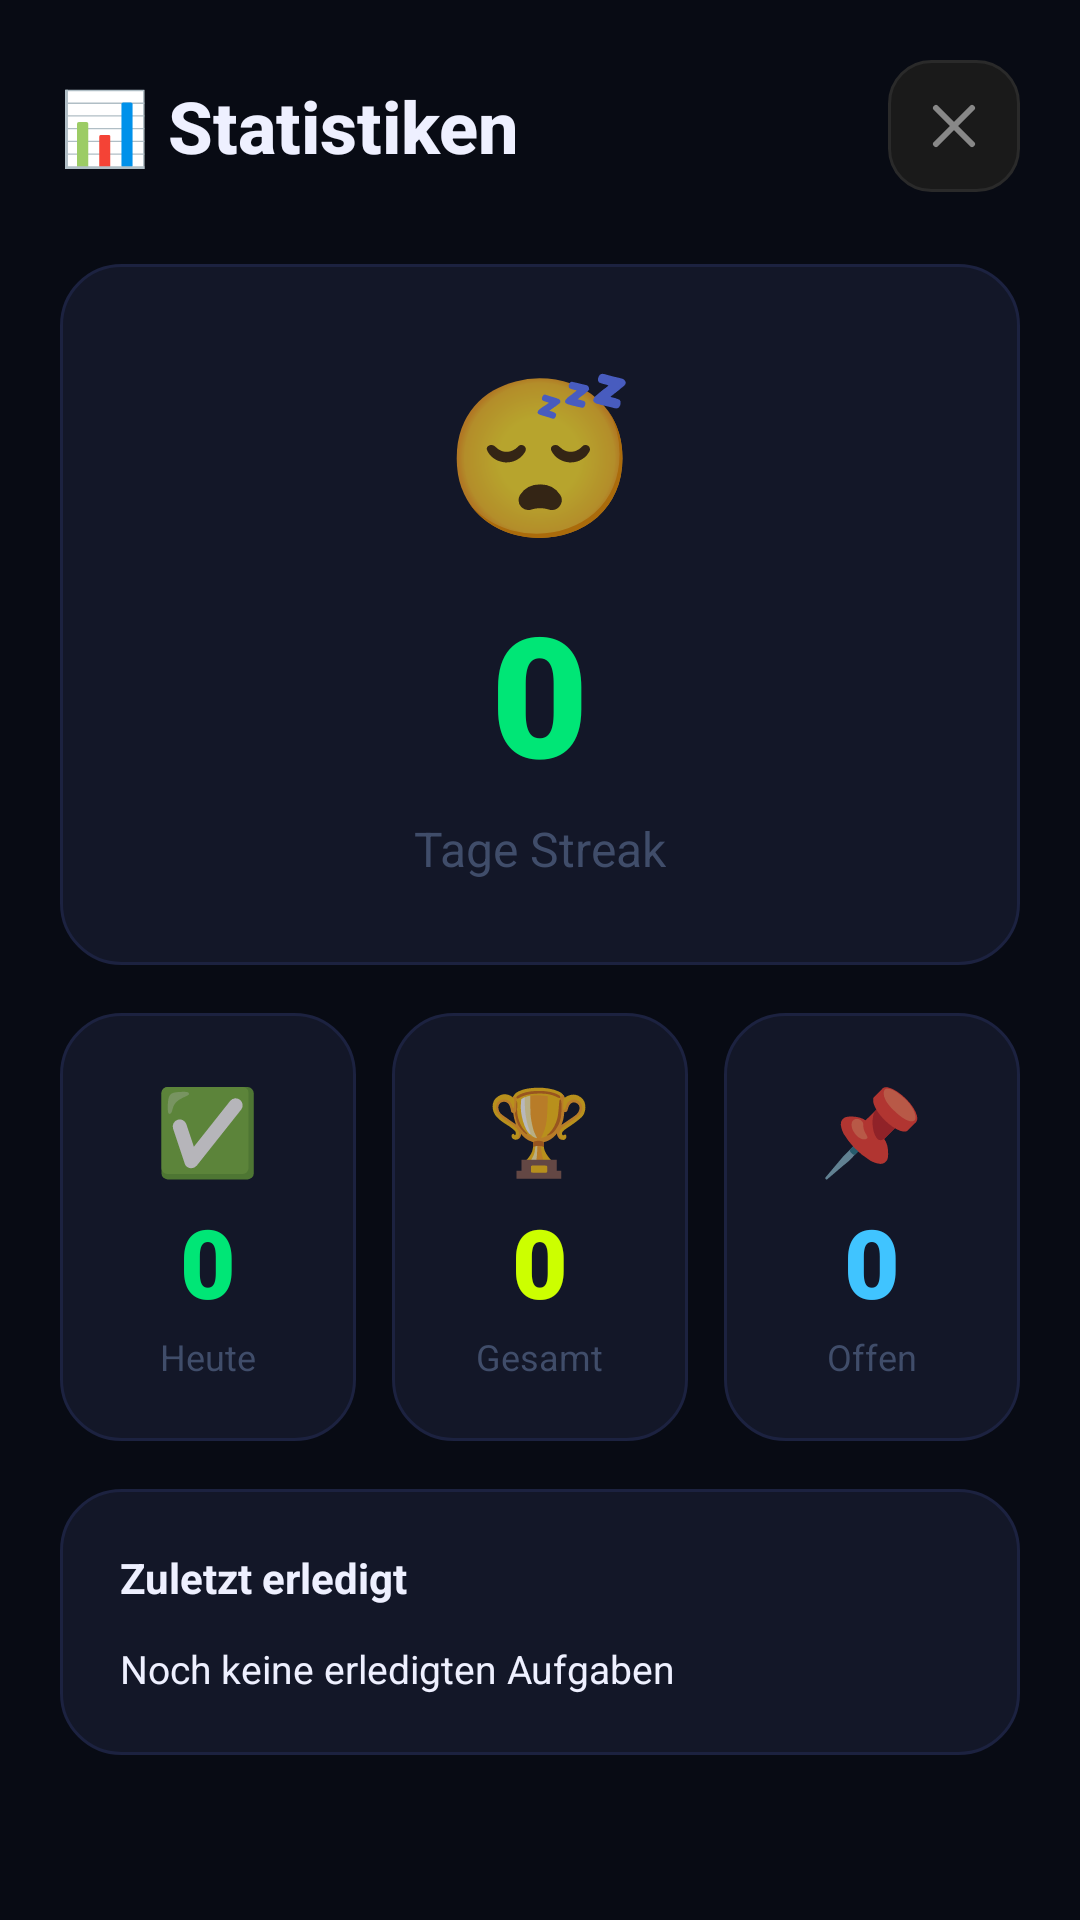

Icons on this 1080 × 1920 Android screen, each with its box as (x1, y1, x2, y2):
Schließen: (888, 60, 1020, 192)
